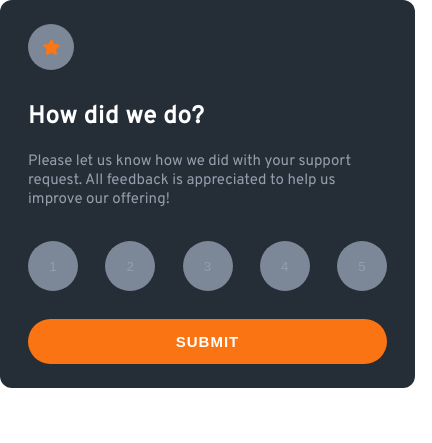
Test case: Rating Component › Should allow a user to submit a rating after unsuccessful submit
Click the button "Submit": (208,342) 28,319 -> 387,364
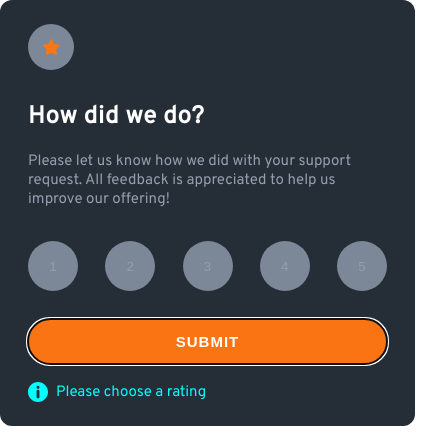
Check: the text "Please choose a rating" is shown, box 56,382 -> 206,402
Click the button "3": (208,266) 182,241 -> 232,291
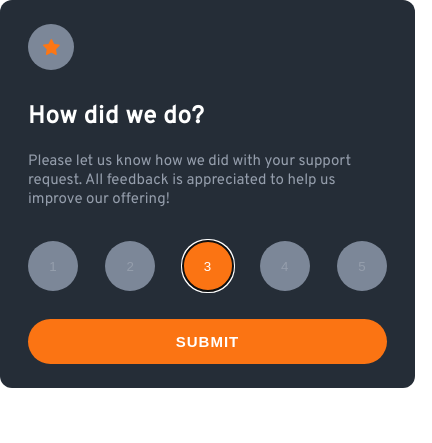
Click the button "Submit": (208,342) 28,319 -> 387,364
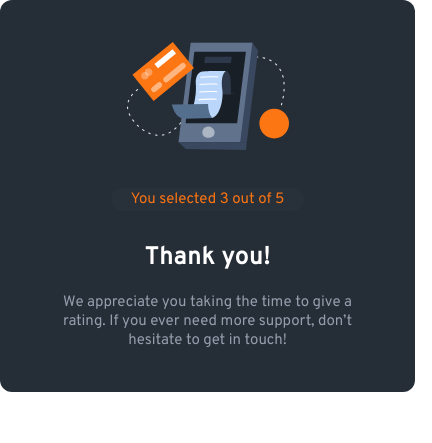
Check: the text "You selected 3 out of 5" is shown, box 111,188 -> 304,211
